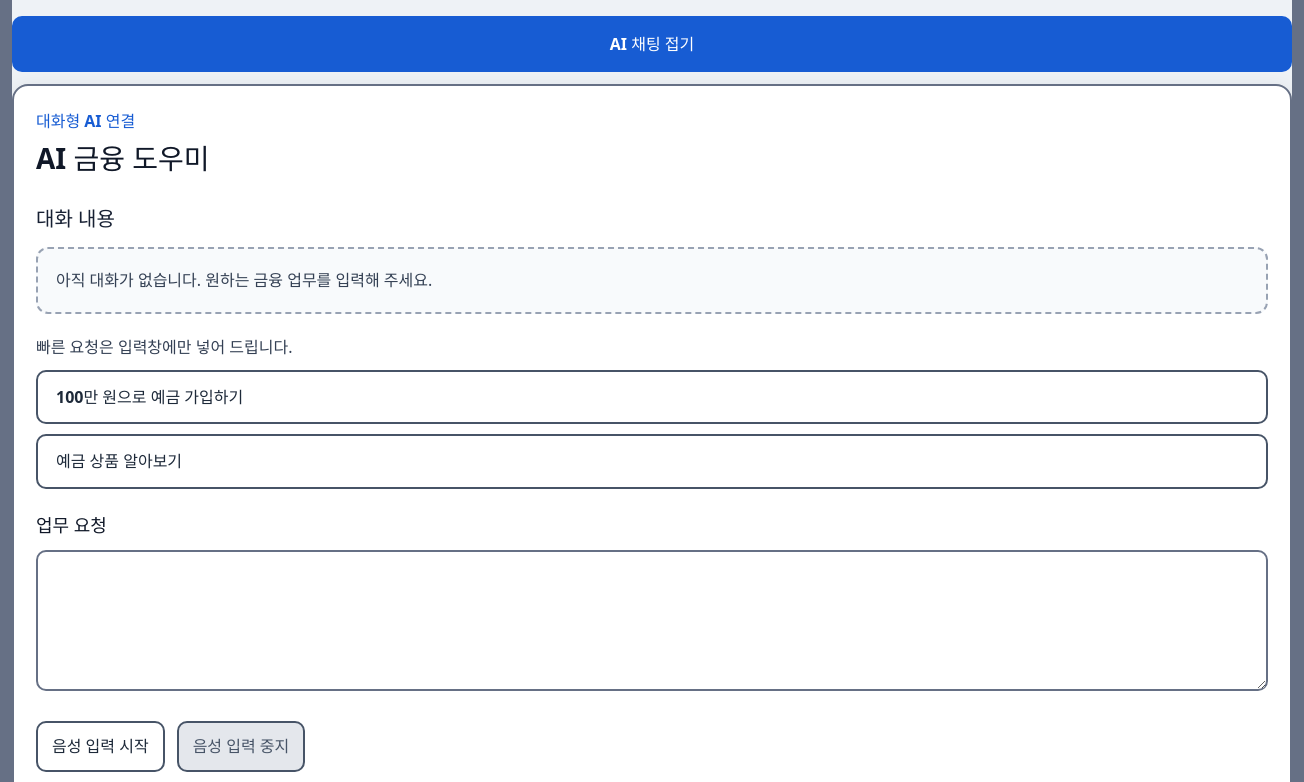
Scenario: agent speech controls › STT final 결과도 draft만 바꾸고 자동 전송하지 않는다
Click the button "음성 입력 시작" at (100, 746), box left=36, top=721, right=165, bottom=772
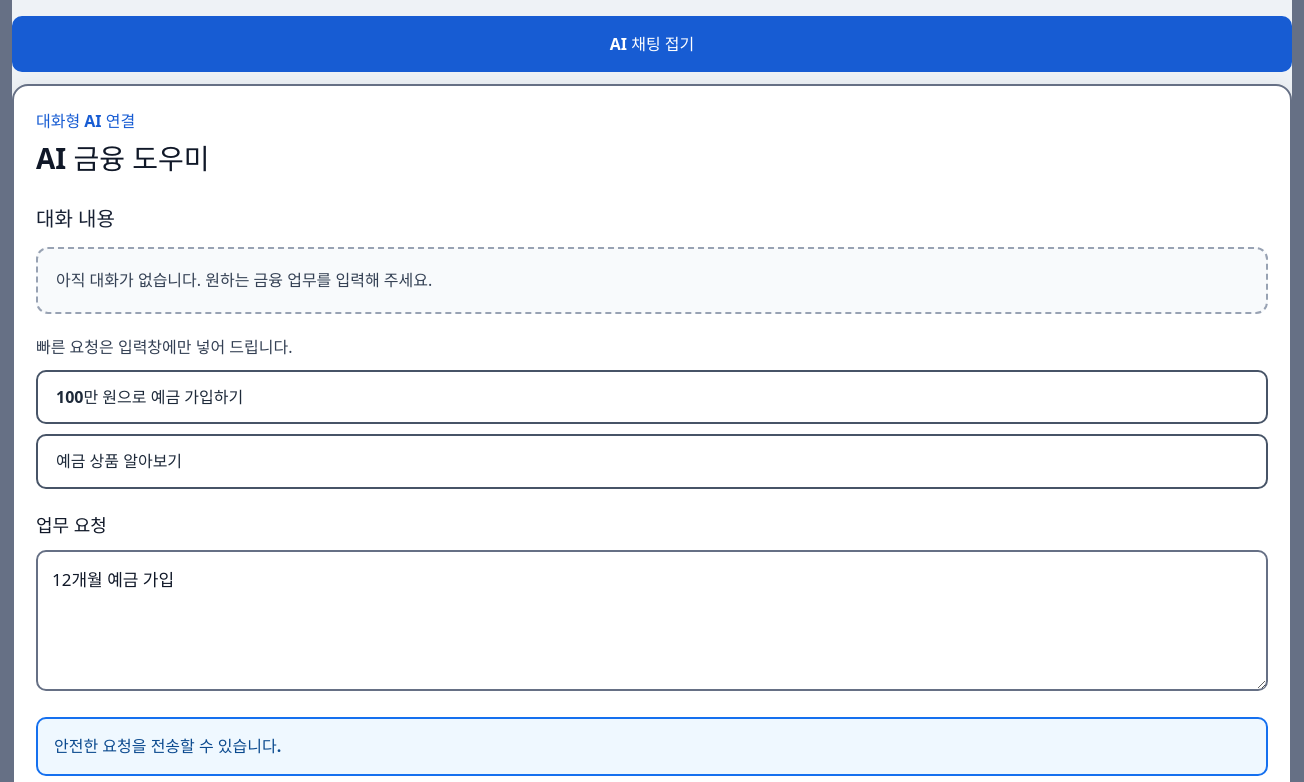
expect the text box labelled "업무 요청" holds "12개월 예금 가입": met, box left=36, top=550, right=1268, bottom=691
